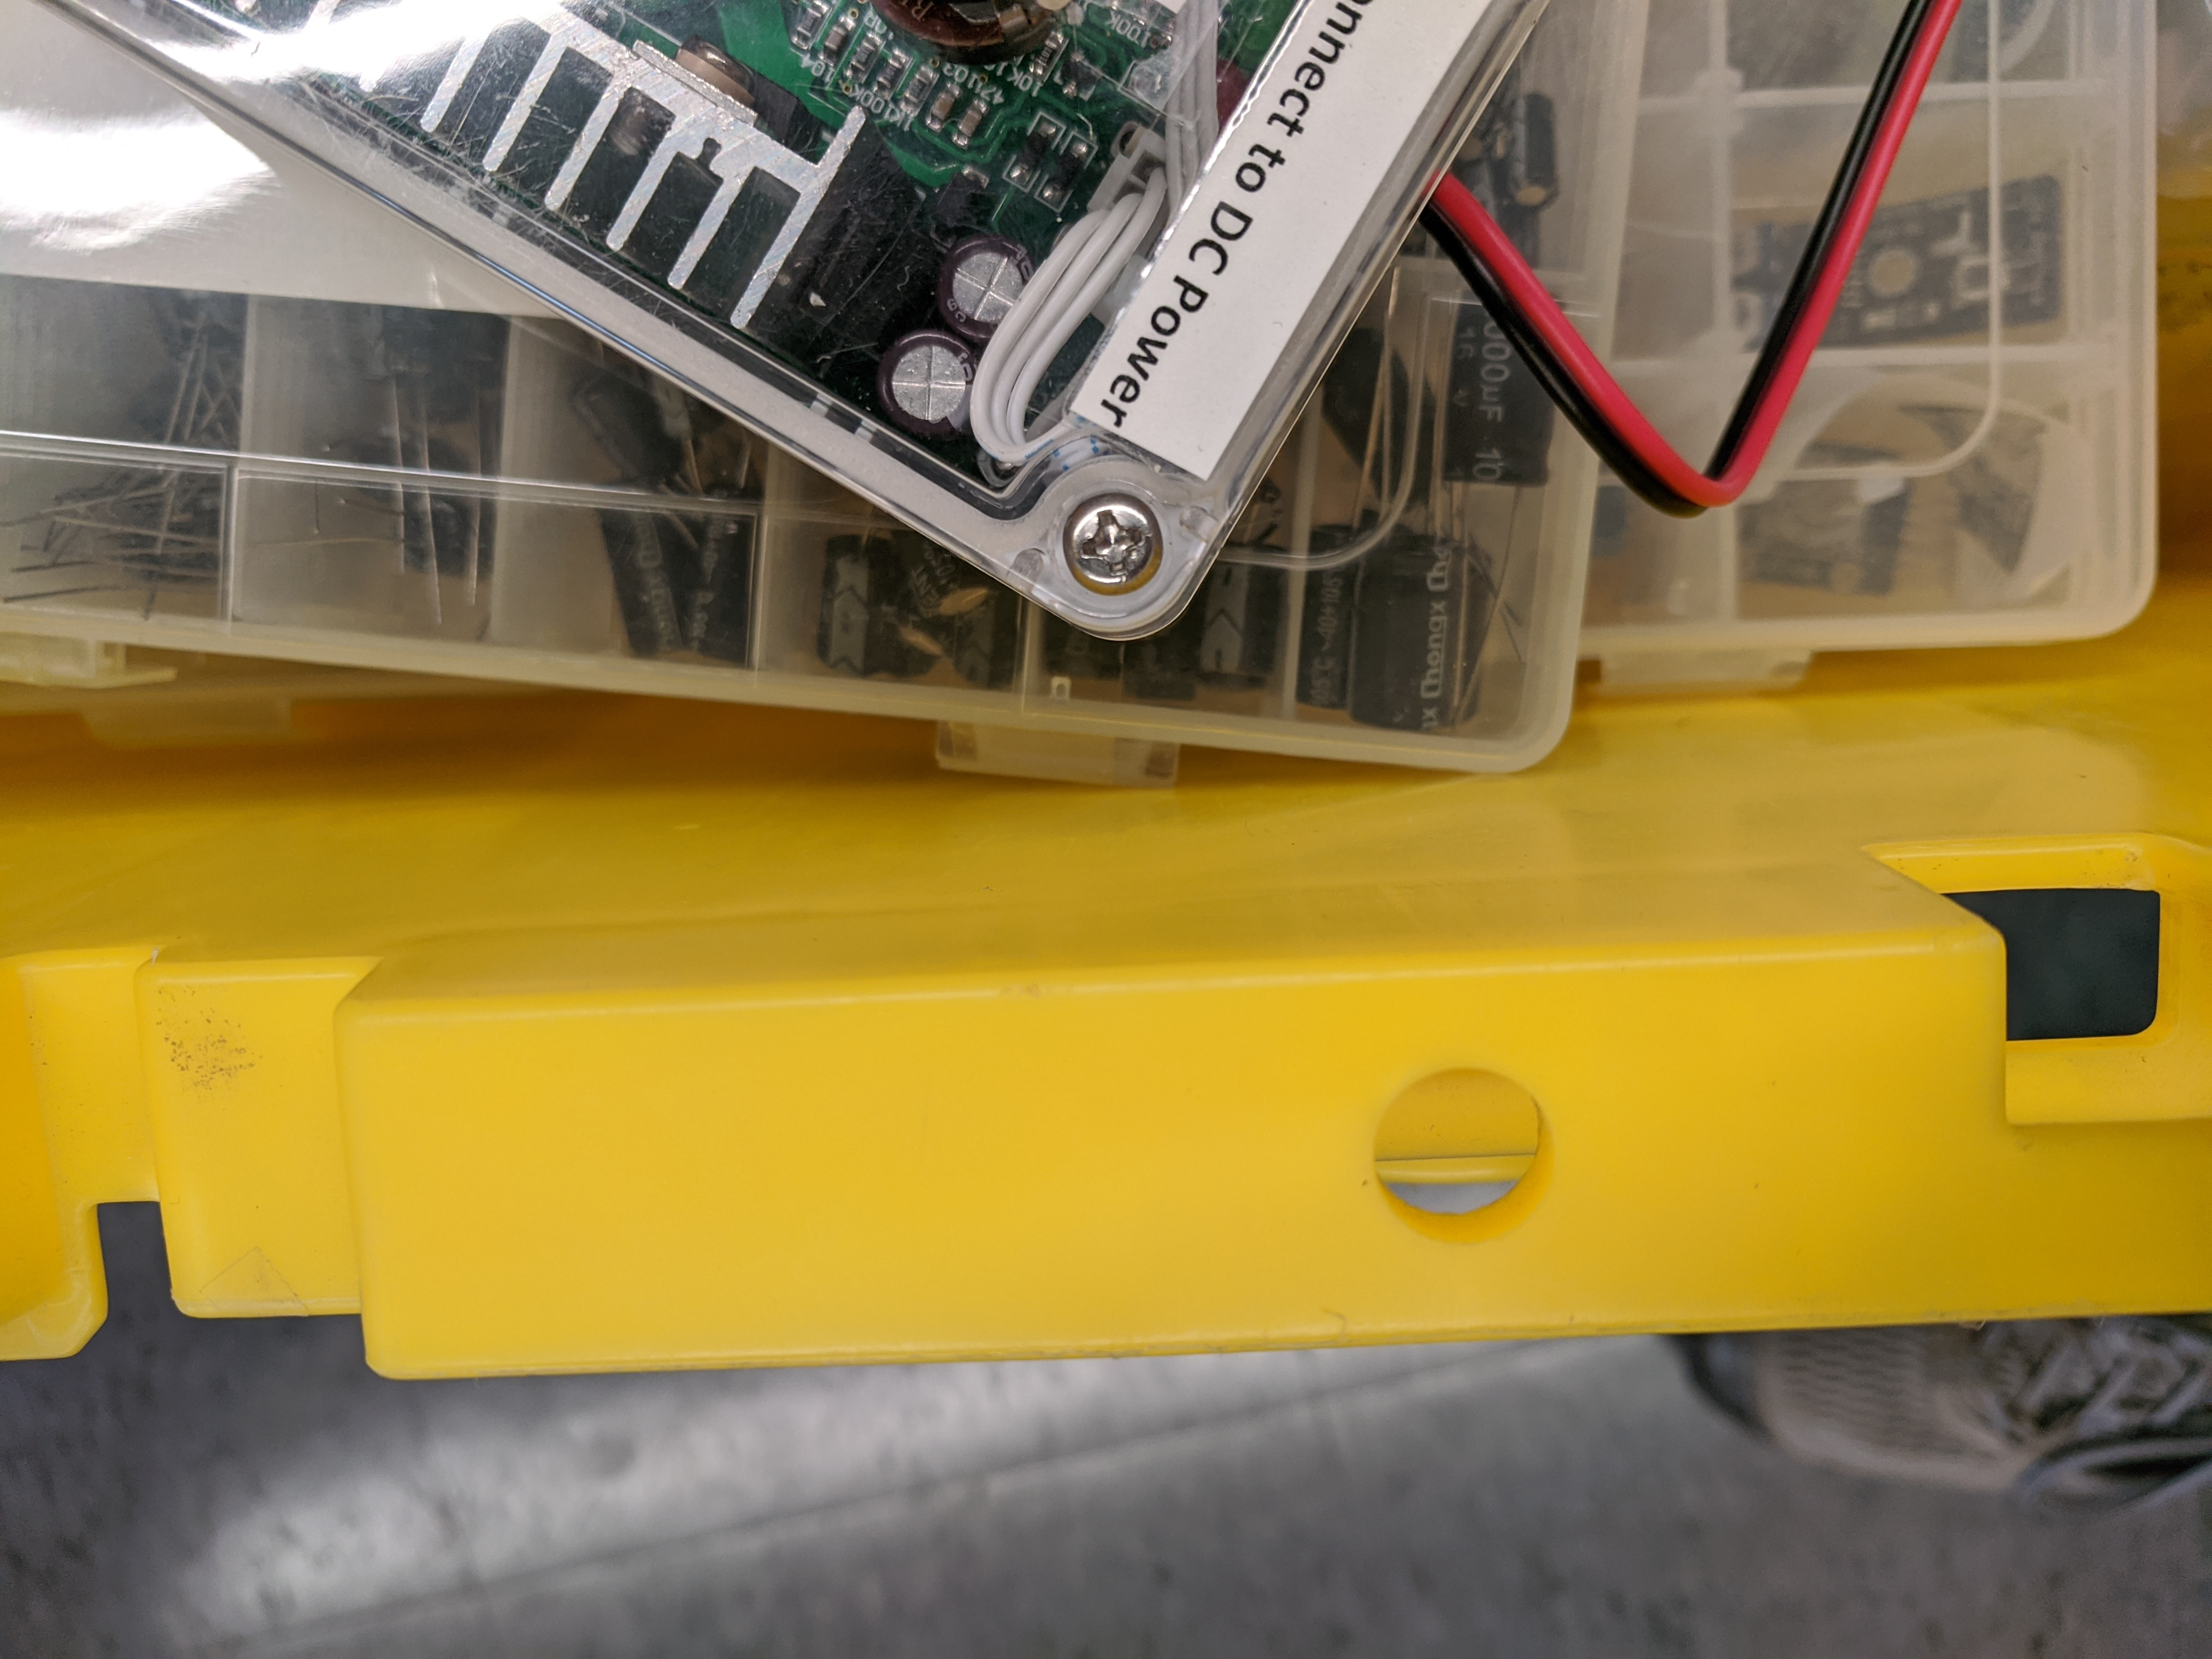cross_recessed_screw: (1057, 488, 1157, 606)
